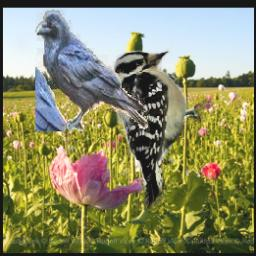Crow: (36, 11, 151, 132)
Woodpecker: (111, 47, 212, 211)
